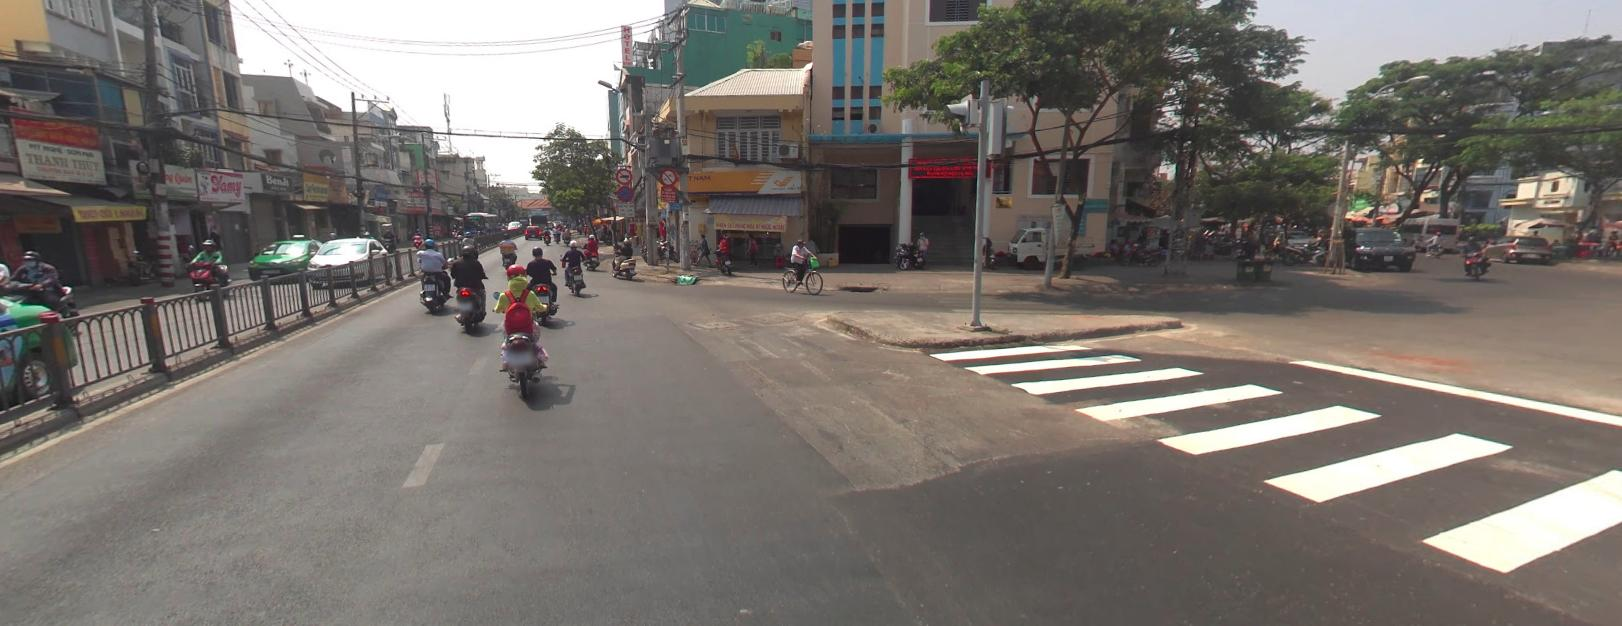Cam con lai: (659, 167, 677, 183), (615, 166, 632, 182)
Cam dung va do: (617, 184, 634, 200)
